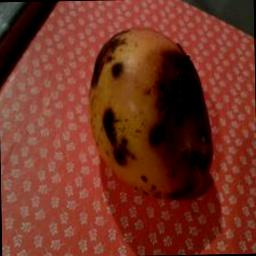Mango Rotten: (74, 4, 224, 210)
